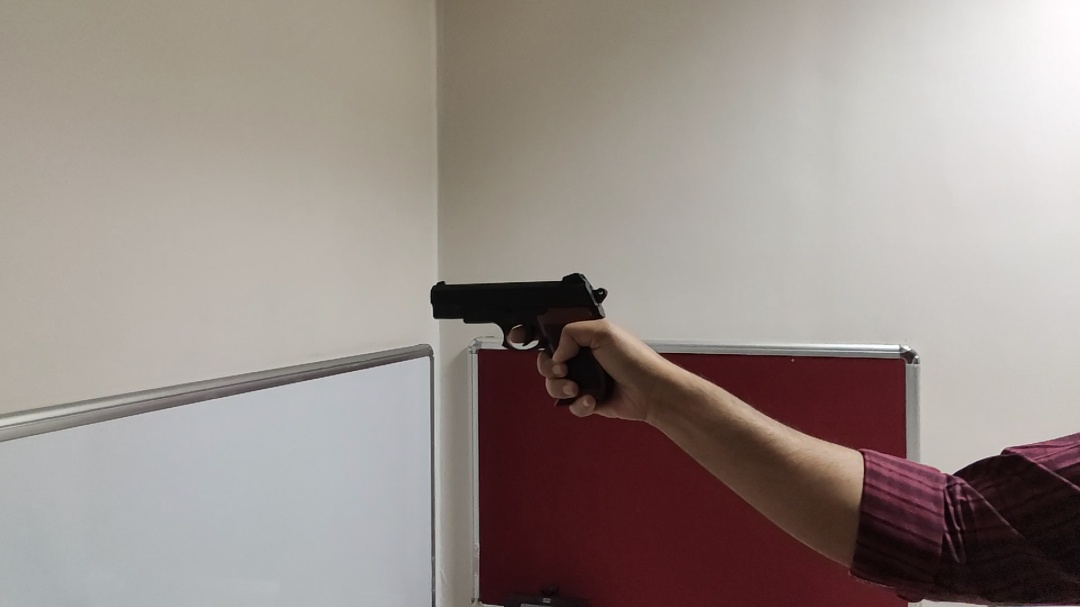gun: (429, 273, 624, 409)
